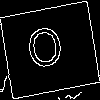O: (25, 25, 67, 78)
